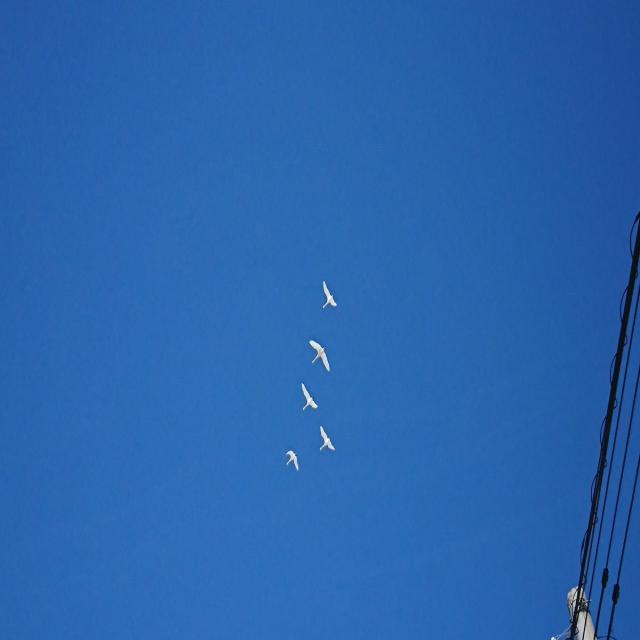bird: (308, 338, 330, 372), (300, 382, 322, 414), (316, 420, 336, 455), (322, 280, 340, 312), (285, 451, 302, 472)
